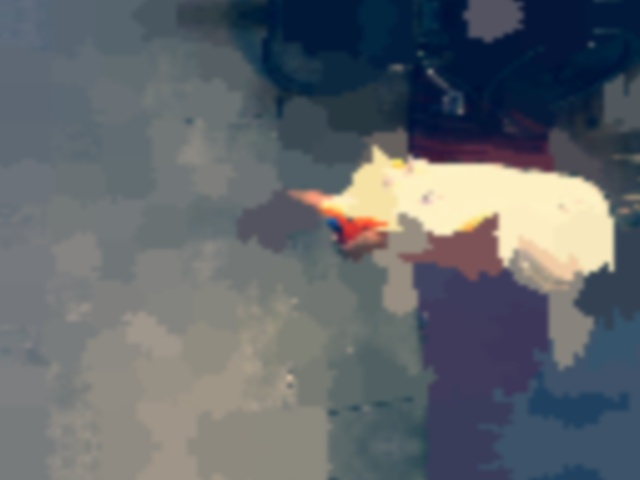eight: (556, 183, 607, 221)
